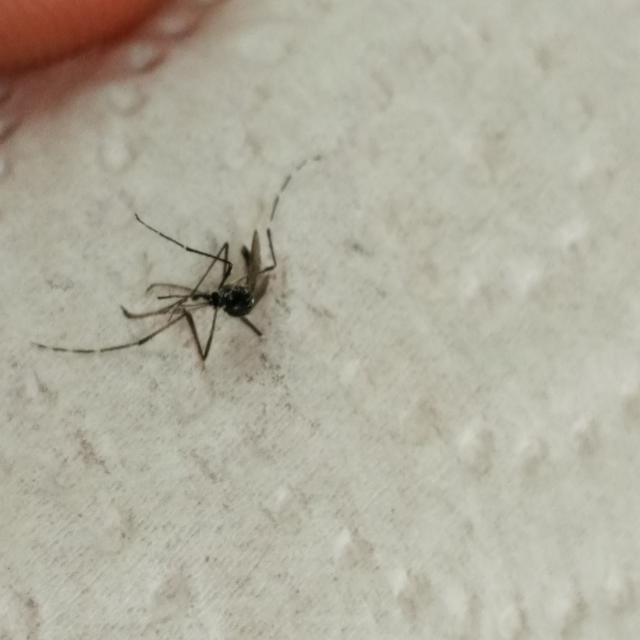albopictus: (60, 163, 307, 380)
